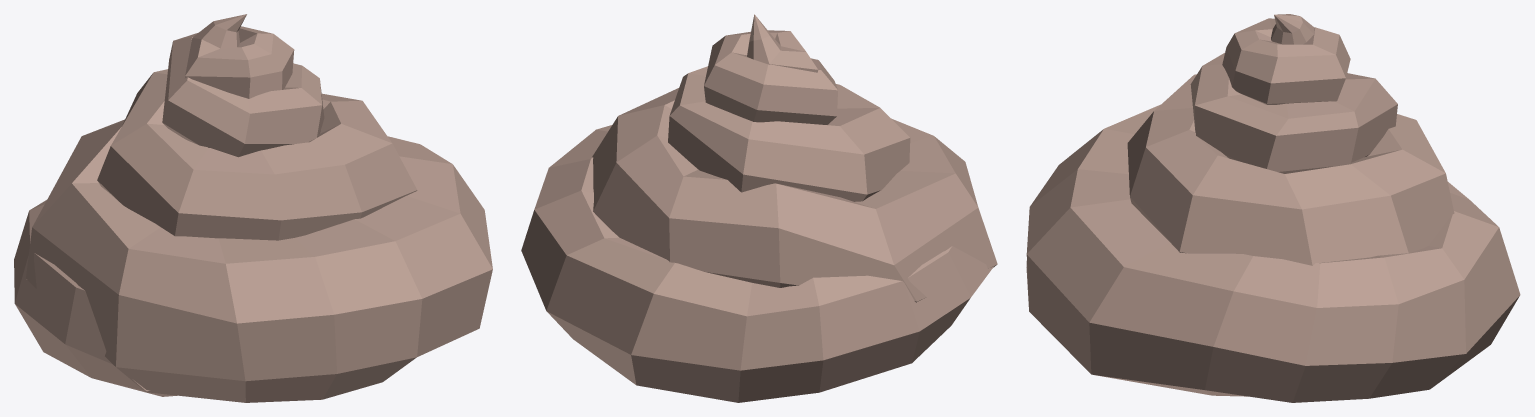
Rendered from PoopModel.fbx.
3 views of the same model, side by side, from view 1: azimuth 30°, elevation 25°; view 2: azimuth 150°, elevation 25°; view 3: azimuth 270°, elevation 25° (orthographic). The views are drawn at different scales.
Parts seen in each view (by area): view 1: pasted__mesh_2010539408; view 2: pasted__mesh_2010539408; view 3: pasted__mesh_2010539408.
Part boxes in pixels (x1,y1,x2,y2): pasted__mesh_2010539408: (14,14,492,402); pasted__mesh_2010539408: (521,14,997,402); pasted__mesh_2010539408: (1026,14,1520,402).
Bounding box in the file's own units: 23.15 × 17.83 × 23.34.
